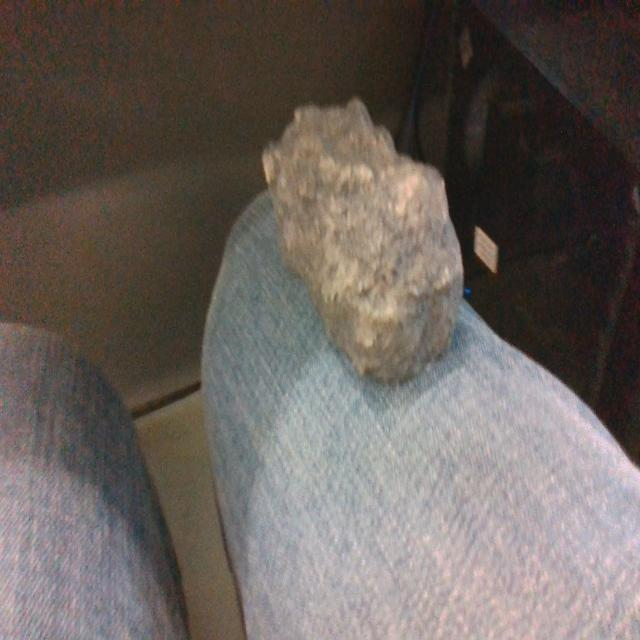stone: (261, 98, 464, 387)
